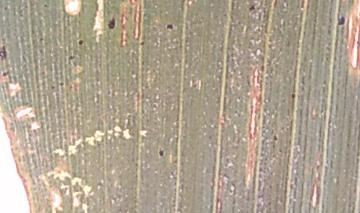tarspot: (104, 15, 120, 34), (334, 14, 349, 28), (1, 43, 12, 62), (157, 146, 167, 159), (163, 22, 174, 33), (246, 4, 259, 12), (1, 68, 12, 77), (271, 133, 280, 142), (48, 83, 58, 91), (77, 36, 84, 46), (68, 53, 77, 60), (290, 91, 297, 99), (57, 82, 66, 87)
